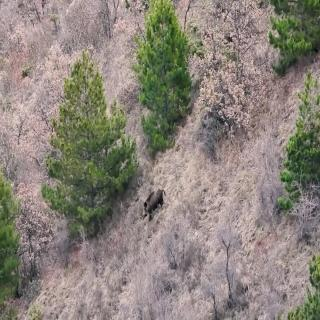Pig: (133, 184, 173, 223)
